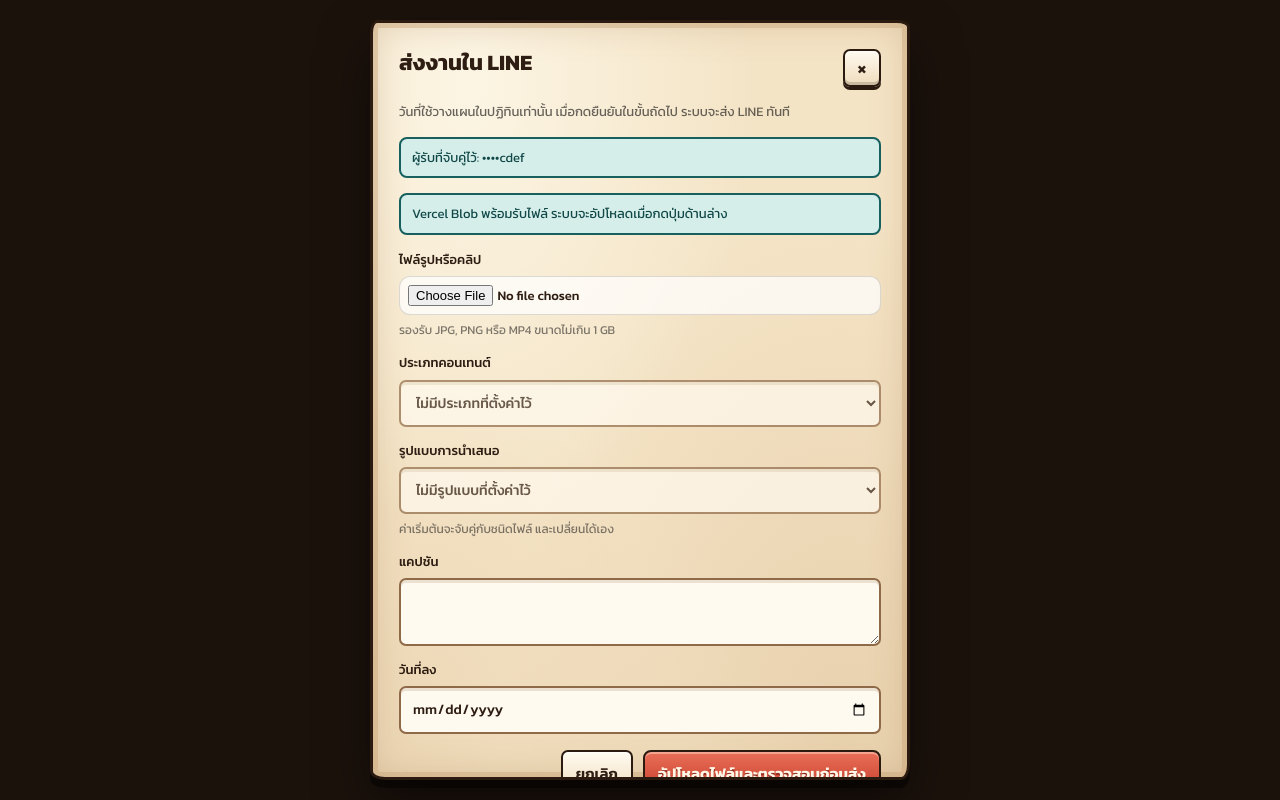
Test: LineSendComposer › requires one supported file, caption, and date before invoking submit
Click the button "อัปโหลดไฟล์และตรวจสอบก่อนส่ง" at coordinates (762, 773), box [643,750,881,797]
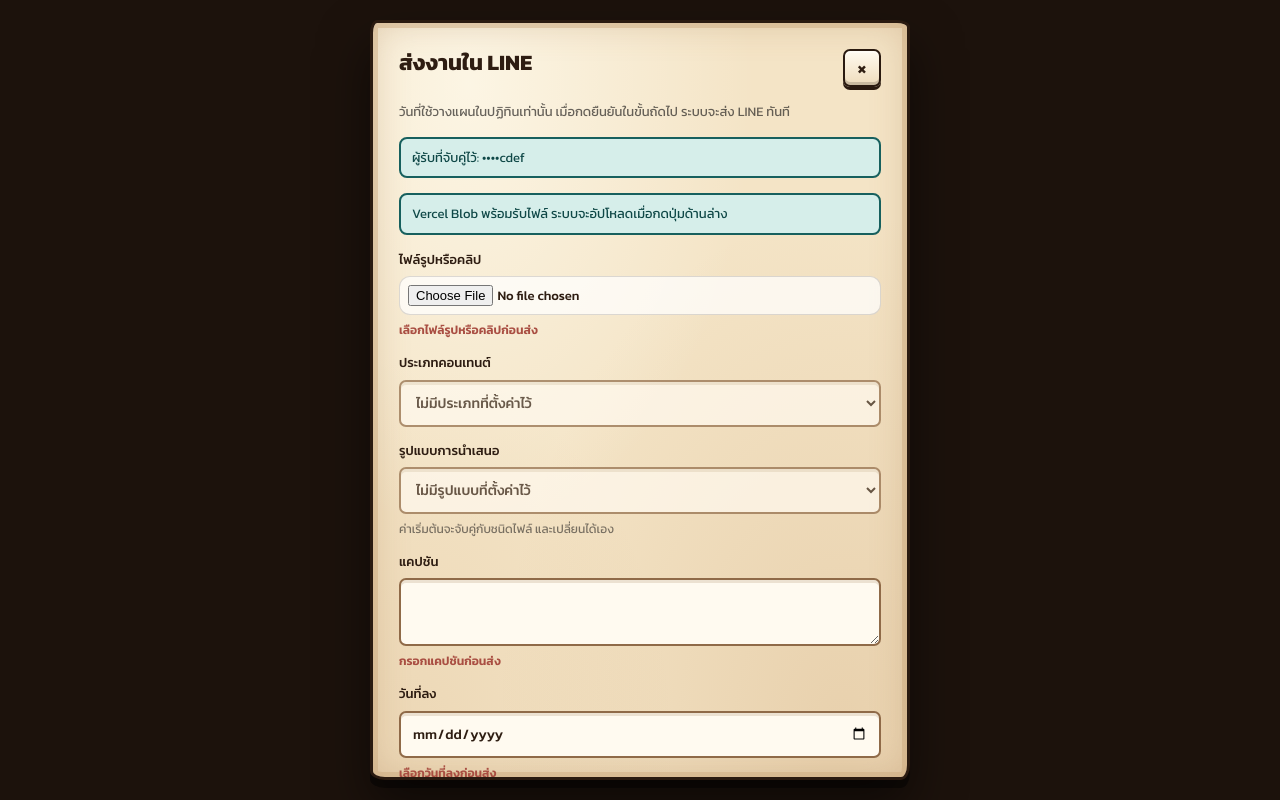
Check: the text "เลือกไฟล์รูปหรือคลิปก่อนส่ง" is shown, box [399,321,538,339]
Check: the text "กรอกแคปชันก่อนส่ง" is shown, box [399,652,501,670]
Check: the text "เลือกวันที่ลงก่อนส่ง" is shown, box [399,764,496,780]
